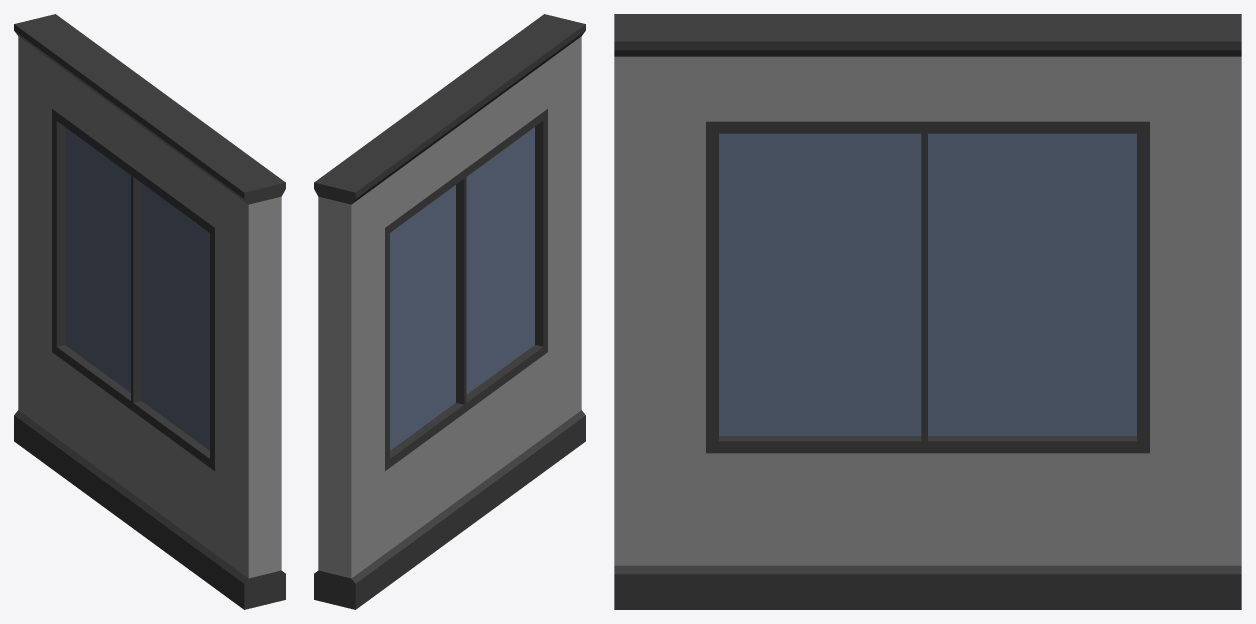
The model's file is Neo_WallWindow_02_snaps001.fbx.
3 renders of one model, left to right at view 1: azimuth 30°, elevation 25°; view 2: azimuth 150°, elevation 25°; view 3: azimuth 270°, elevation 25°, orthographic. The views are drawn at different scales.
Visible parts, largest first — view 1: Neo_WallWindow_02_snaps001; view 2: Neo_WallWindow_02_snaps001; view 3: Neo_WallWindow_02_snaps001.
Part boxes in pixels (x1,y1,x2,y2): Neo_WallWindow_02_snaps001: (14,14,285,609); Neo_WallWindow_02_snaps001: (314,14,585,609); Neo_WallWindow_02_snaps001: (614,14,1241,609).
Size of the model in its own units: 31.25 by 300 by 300.
